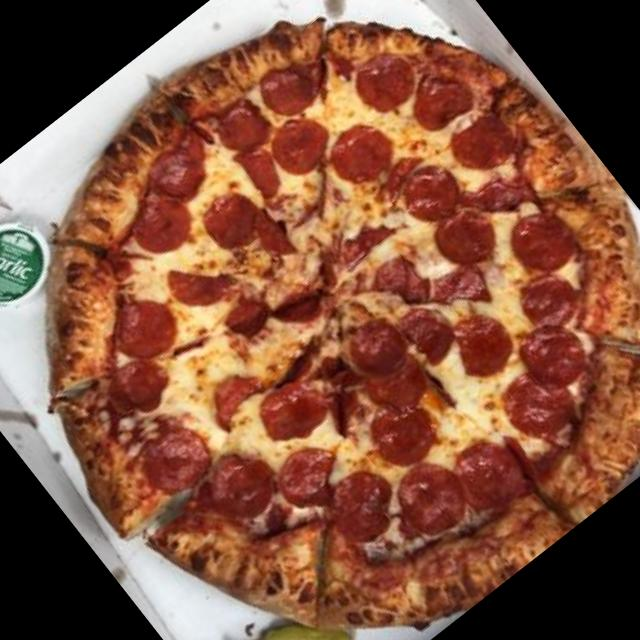pepperoni: (191, 172, 297, 283), (352, 381, 454, 483), (122, 407, 224, 508), (186, 438, 286, 540), (382, 447, 480, 546), (442, 426, 540, 524), (245, 359, 342, 453), (245, 34, 342, 127), (98, 280, 191, 372), (316, 111, 408, 202), (262, 432, 353, 522), (152, 236, 242, 326), (499, 198, 586, 286), (317, 462, 404, 550), (508, 310, 594, 397), (92, 344, 181, 428), (508, 256, 594, 342), (491, 359, 576, 446), (423, 196, 507, 282), (337, 304, 422, 388), (393, 56, 478, 139), (137, 132, 221, 214), (257, 102, 339, 184), (114, 177, 196, 259), (444, 102, 526, 182), (394, 150, 474, 231), (391, 289, 469, 369), (344, 44, 420, 118), (208, 87, 282, 163), (192, 356, 267, 427), (228, 133, 298, 208), (360, 350, 430, 418), (217, 286, 280, 348)
peppers: (209, 573, 369, 640)
pizza: (44, 17, 640, 633)
